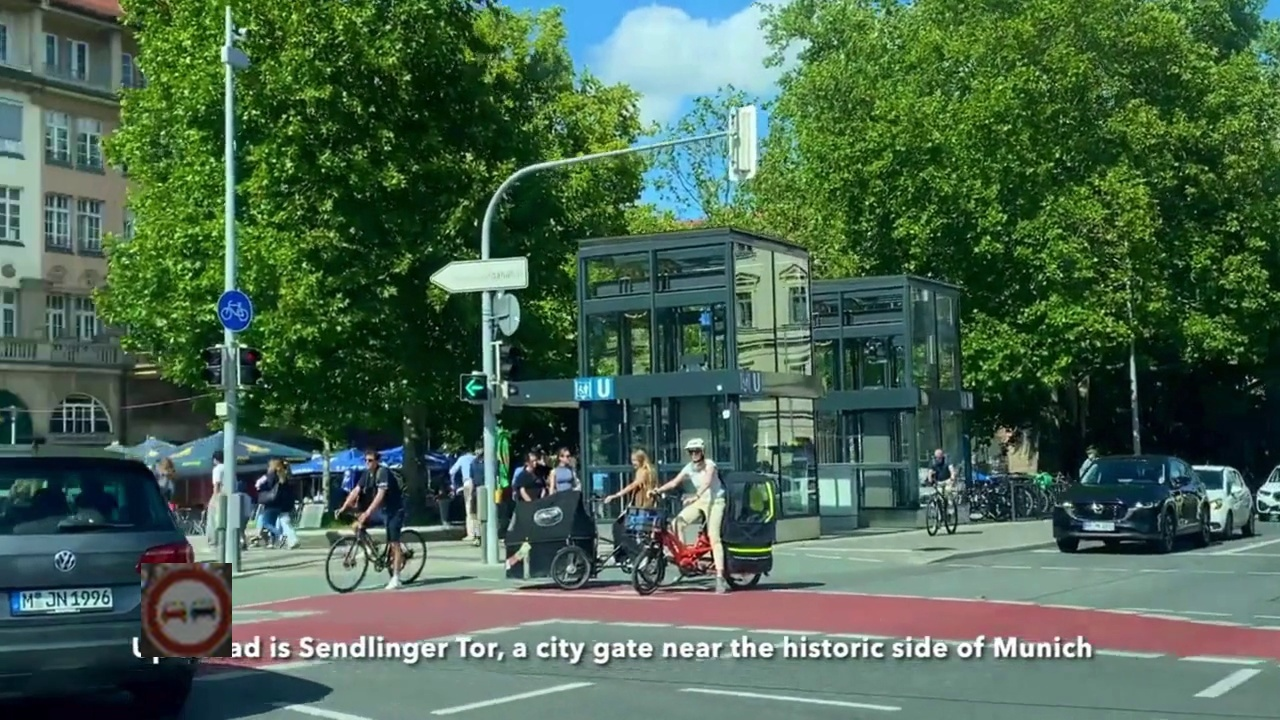No passing: (141, 563, 232, 657)
